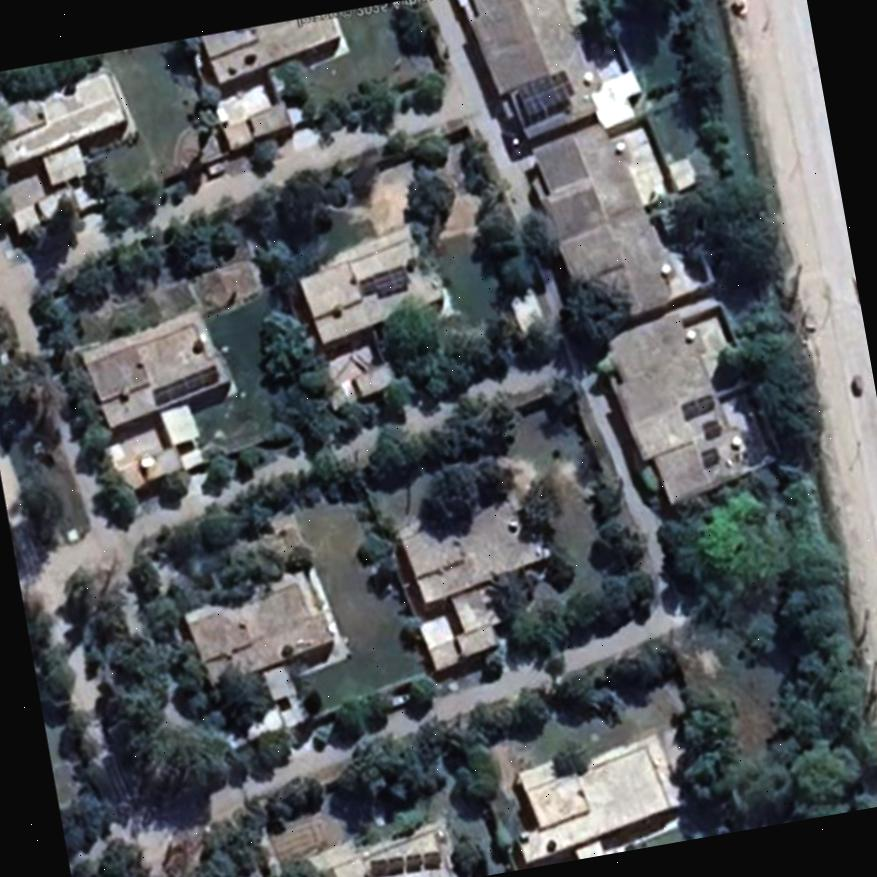Solarpanel: (516, 66, 579, 115), (150, 364, 217, 405), (371, 266, 410, 294)
